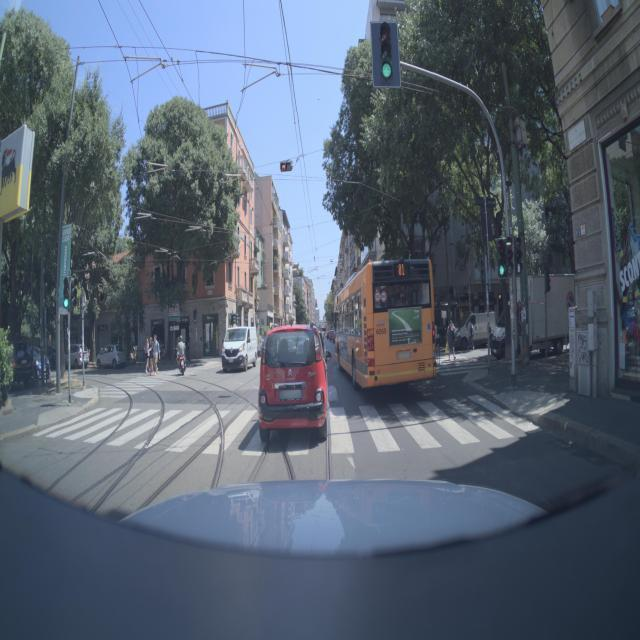green_light: (364, 15, 414, 96), (62, 275, 74, 311)
yellow_light: (270, 157, 296, 175)
